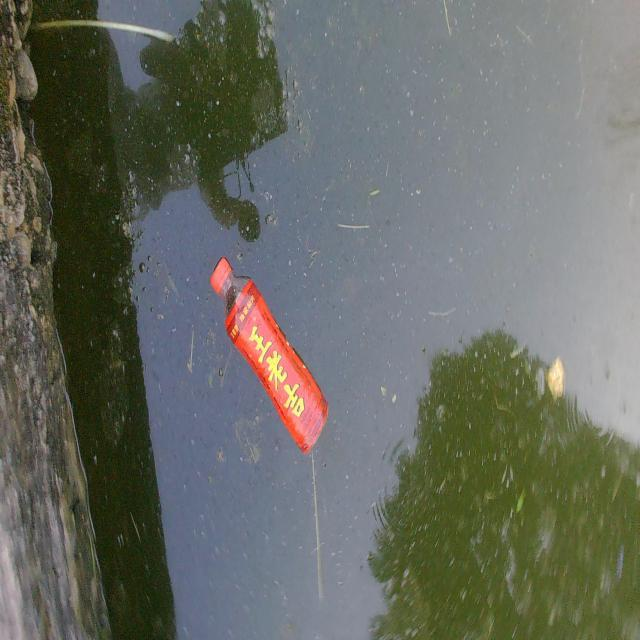bottle: (205, 229, 350, 478)
